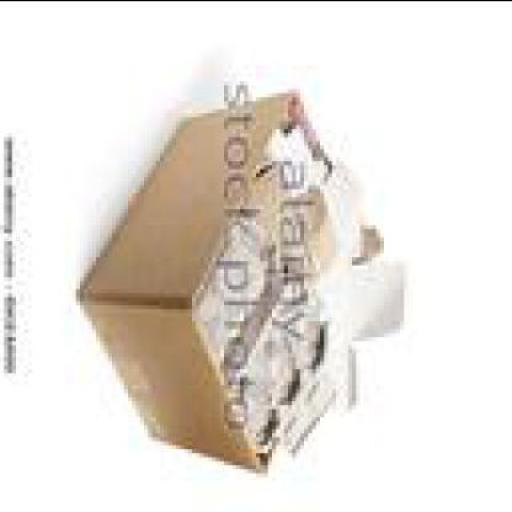cardboard: (80, 88, 361, 468), (356, 220, 412, 336)
